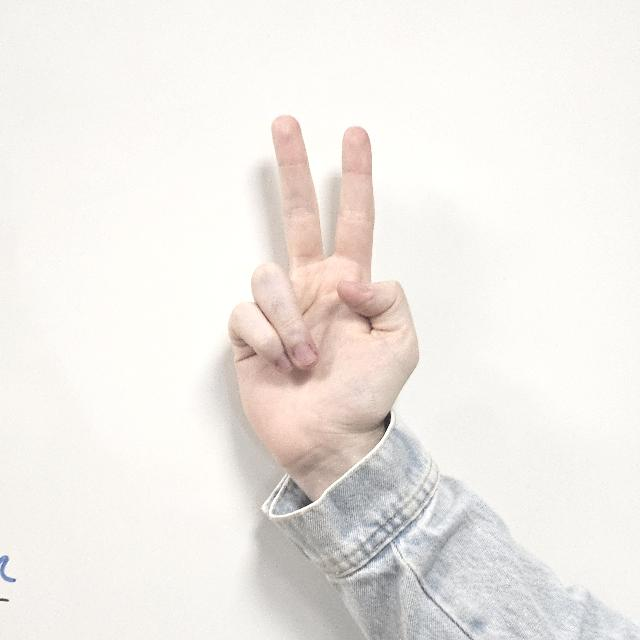Triangulo: (213, 114, 434, 478)
